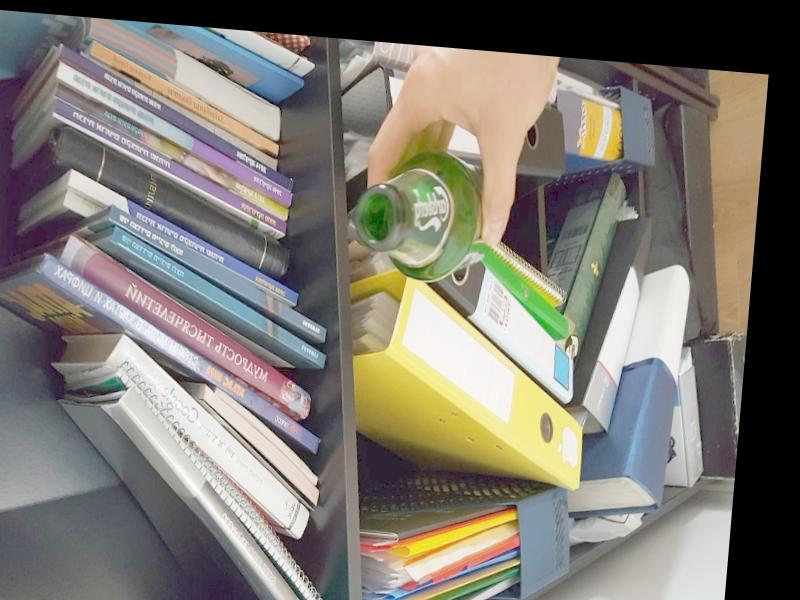Beer: (353, 150, 498, 285)
